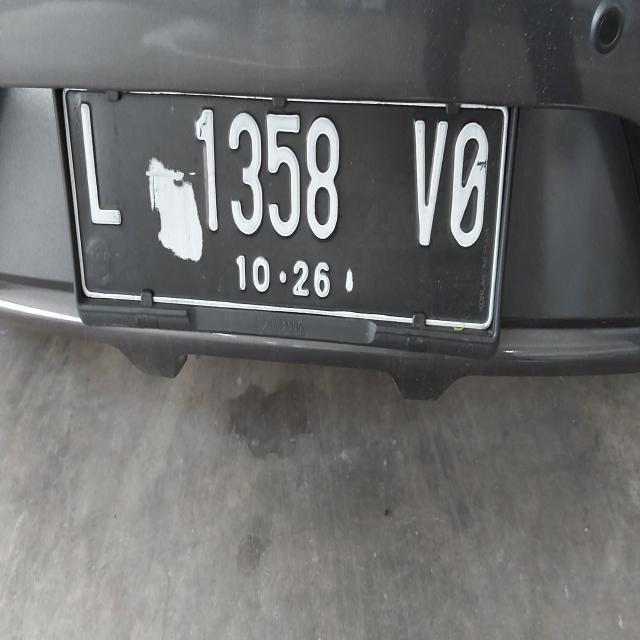1: (182, 86, 232, 248)
3: (219, 84, 268, 255)
5: (260, 88, 306, 252)
8: (299, 90, 349, 259)
L: (70, 84, 136, 250)
O: (450, 98, 494, 278)
V: (402, 90, 456, 276)
